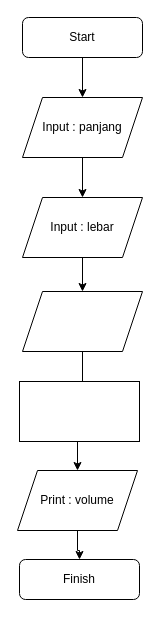
The diagram is 160 pixels wide and 617 high, and some of its shapes have lost their labels. Each missing label, with the centre of its shape:
"Input : tinggi" belongs at point 82,321.
"V = p x l x t" belongs at point 79,411.
